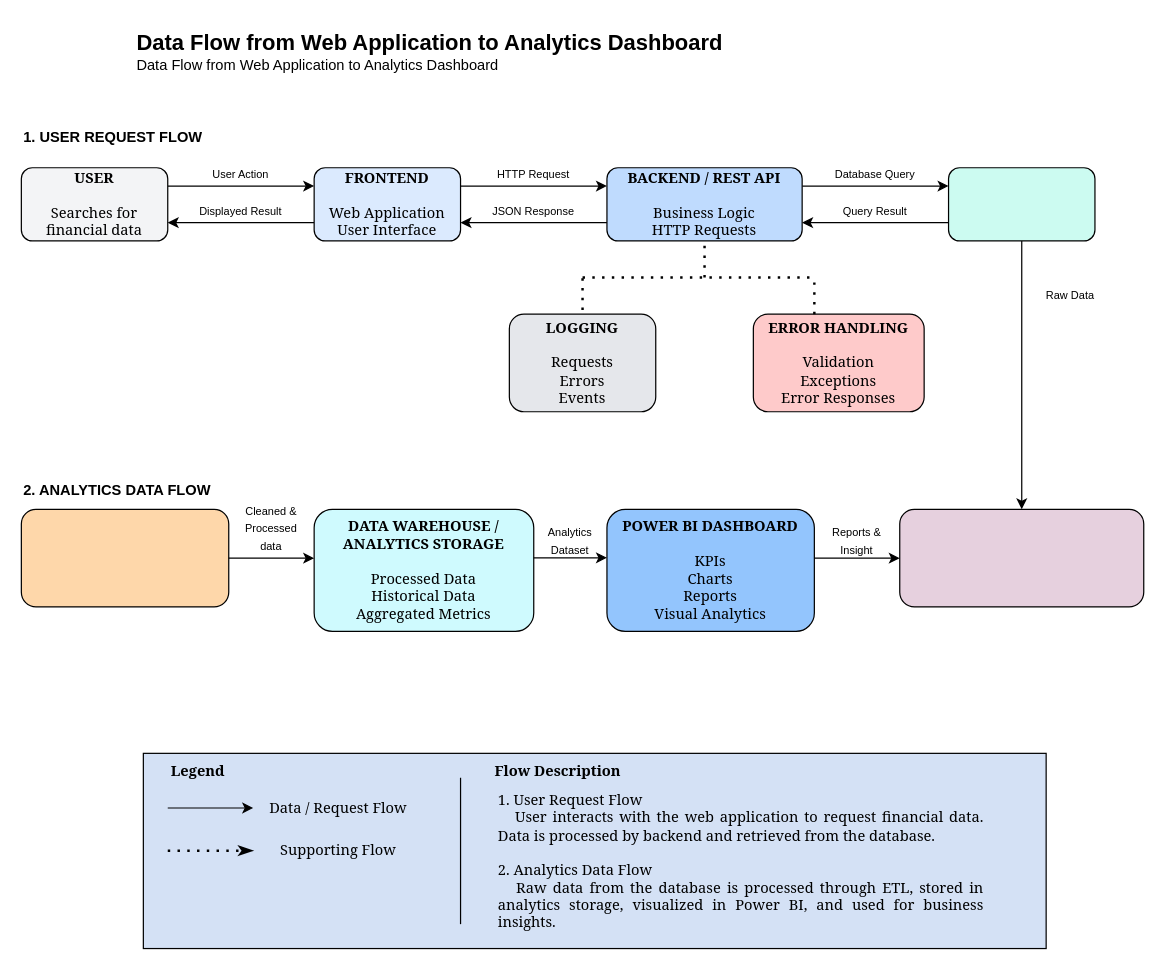
This 1165x970 diagram has some shape labels left out. Each missing label, with the box of its shape:
BUSINESS INSIGHTS Investment Trends Performance Monitoring Business Decisions: (899, 508, 1144, 607)
DATABASE Structured Application Data: (947, 167, 1095, 241)
ETL / DATA PROCESSING Data Cleaning Data Validation Data Transformation: (20, 508, 229, 607)
